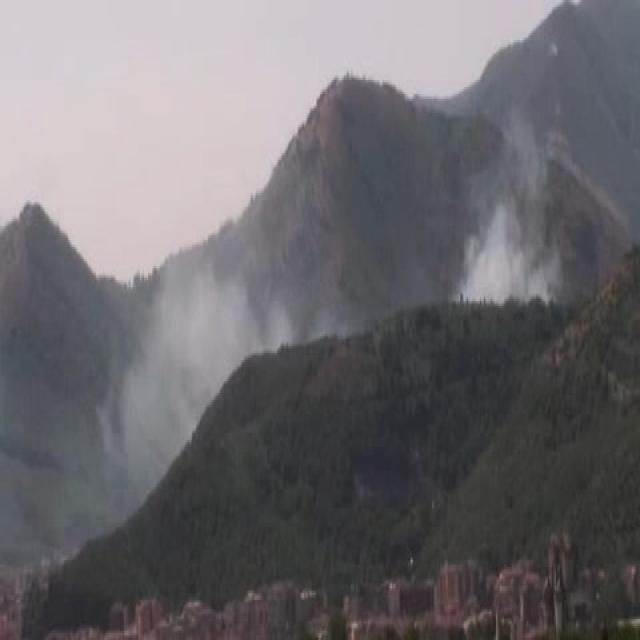Smoke: (453, 149, 562, 307), (112, 264, 236, 396)
